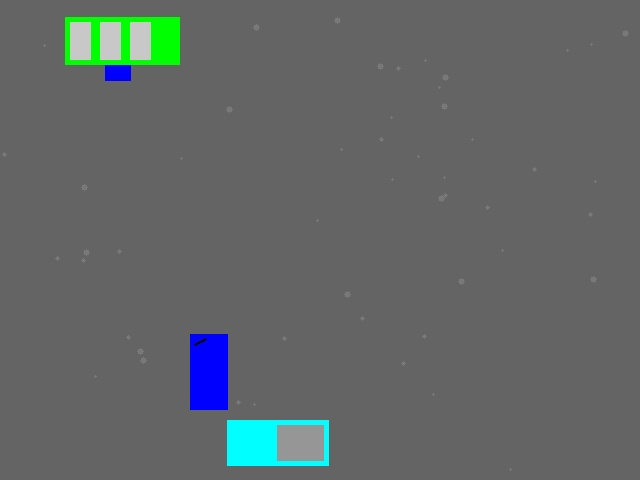bus: (65, 17, 179, 64)
motorcycle: (190, 334, 227, 409), (105, 29, 130, 80)
truck: (227, 420, 328, 465)
